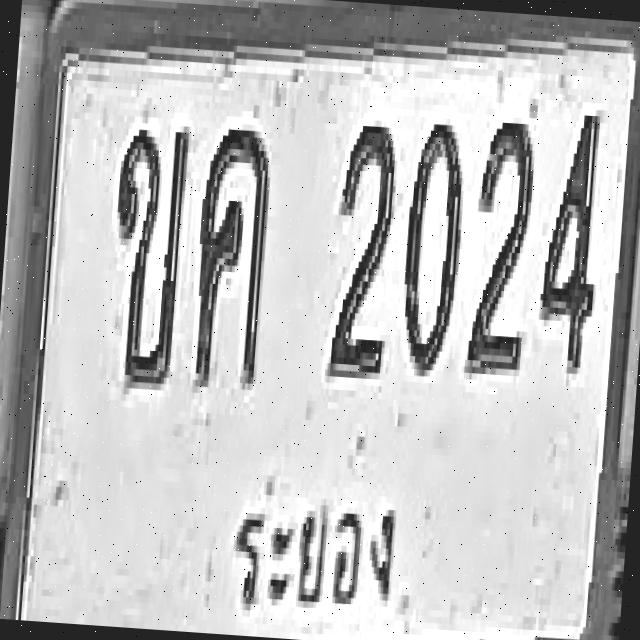0: (396, 119, 466, 374)
11KhorKhai: (103, 118, 189, 387)
13KhorKhwai: (190, 121, 274, 390)
2: (464, 114, 538, 376), (325, 117, 398, 379)
4: (536, 106, 606, 368)
Rayong: (222, 488, 403, 633)
